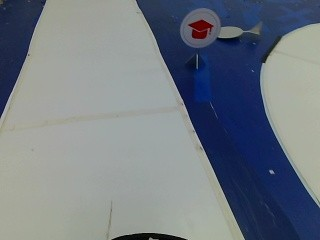school: (176, 6, 220, 49)
